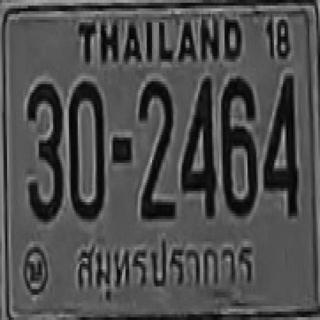N00: (68, 79, 106, 223)
N02: (138, 80, 176, 222)
N03: (27, 81, 64, 222)
N04: (263, 73, 301, 218), (180, 74, 217, 218)
N06: (220, 76, 257, 216)
P57: (67, 232, 256, 299)
